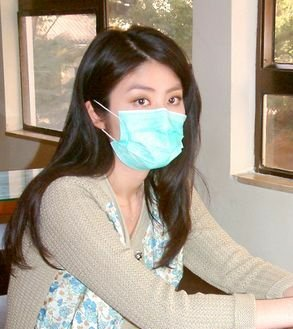face_mask: (109, 62, 187, 168)
